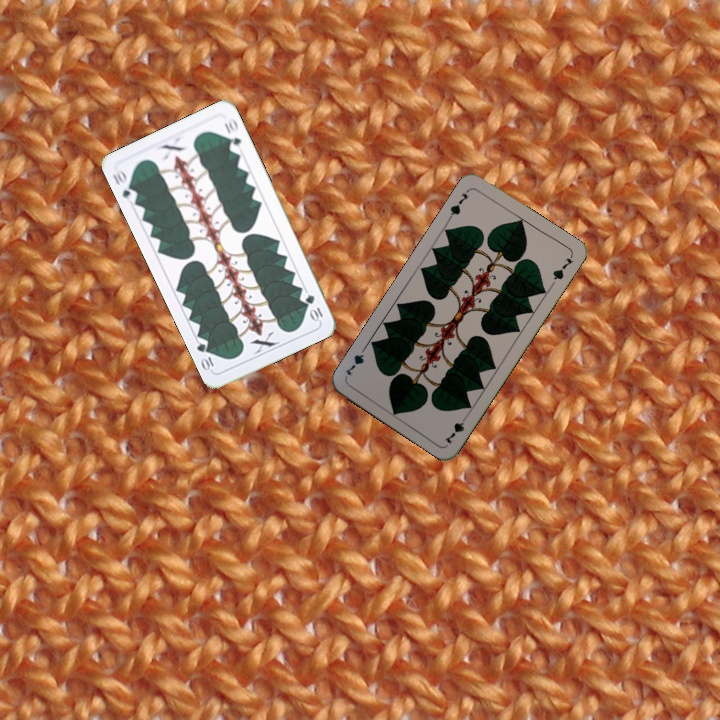G10: (108, 165, 140, 205), (301, 290, 326, 324)
G7: (440, 410, 471, 447), (445, 185, 472, 222)
